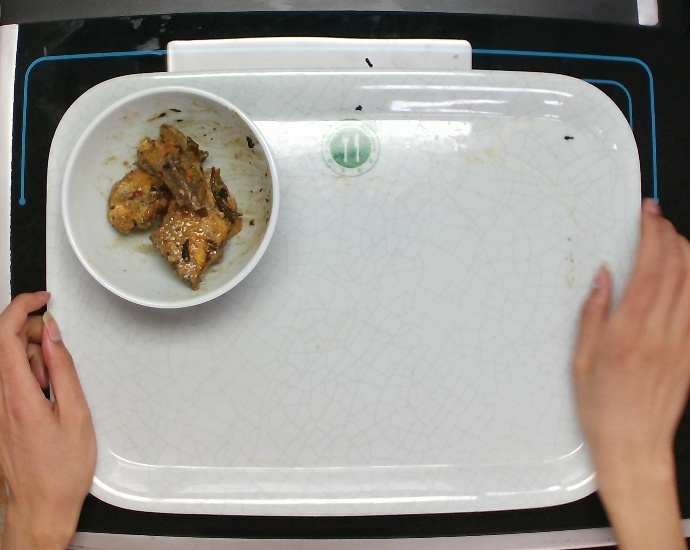JYsf-Fan_Wan: (58, 81, 284, 312)
